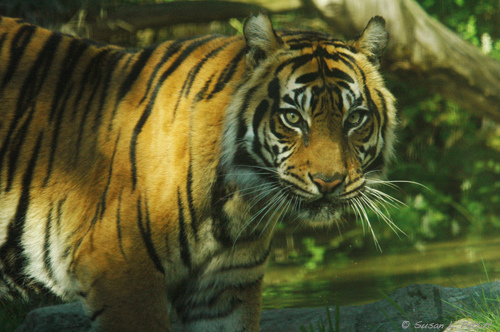Tigre: (10, 12, 382, 319)
